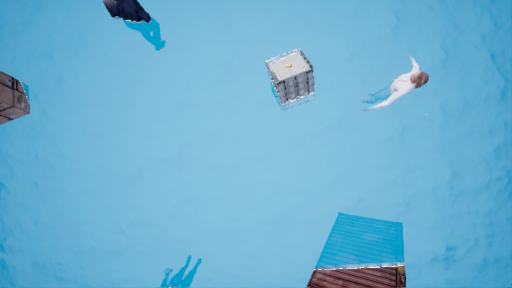person: (107, 1, 172, 57), (367, 59, 429, 117)
